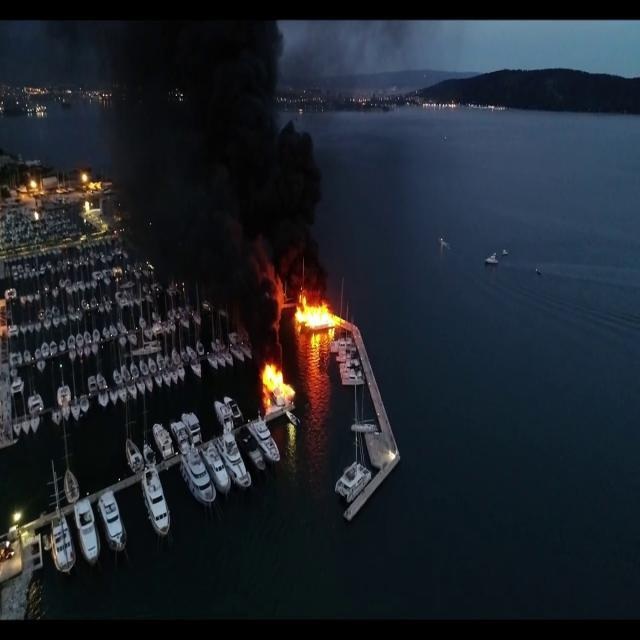Fire: (292, 289, 348, 353), (258, 357, 296, 413)
Smoke: (111, 3, 328, 277)
